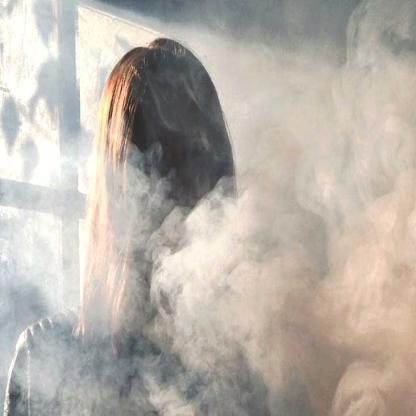smoke: (300, 0, 416, 415), (147, 183, 303, 373)
